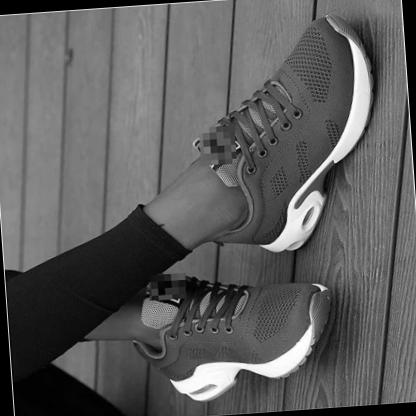ankle: (163, 330, 169, 336), (248, 201, 254, 207)
heel: (263, 239, 269, 245), (172, 377, 177, 383)
left_foot: (130, 270, 340, 408)
pinky: (299, 285, 309, 292), (339, 79, 347, 86)
right_foot: (188, 14, 387, 259)
toe: (294, 331, 300, 337), (308, 32, 314, 38)
